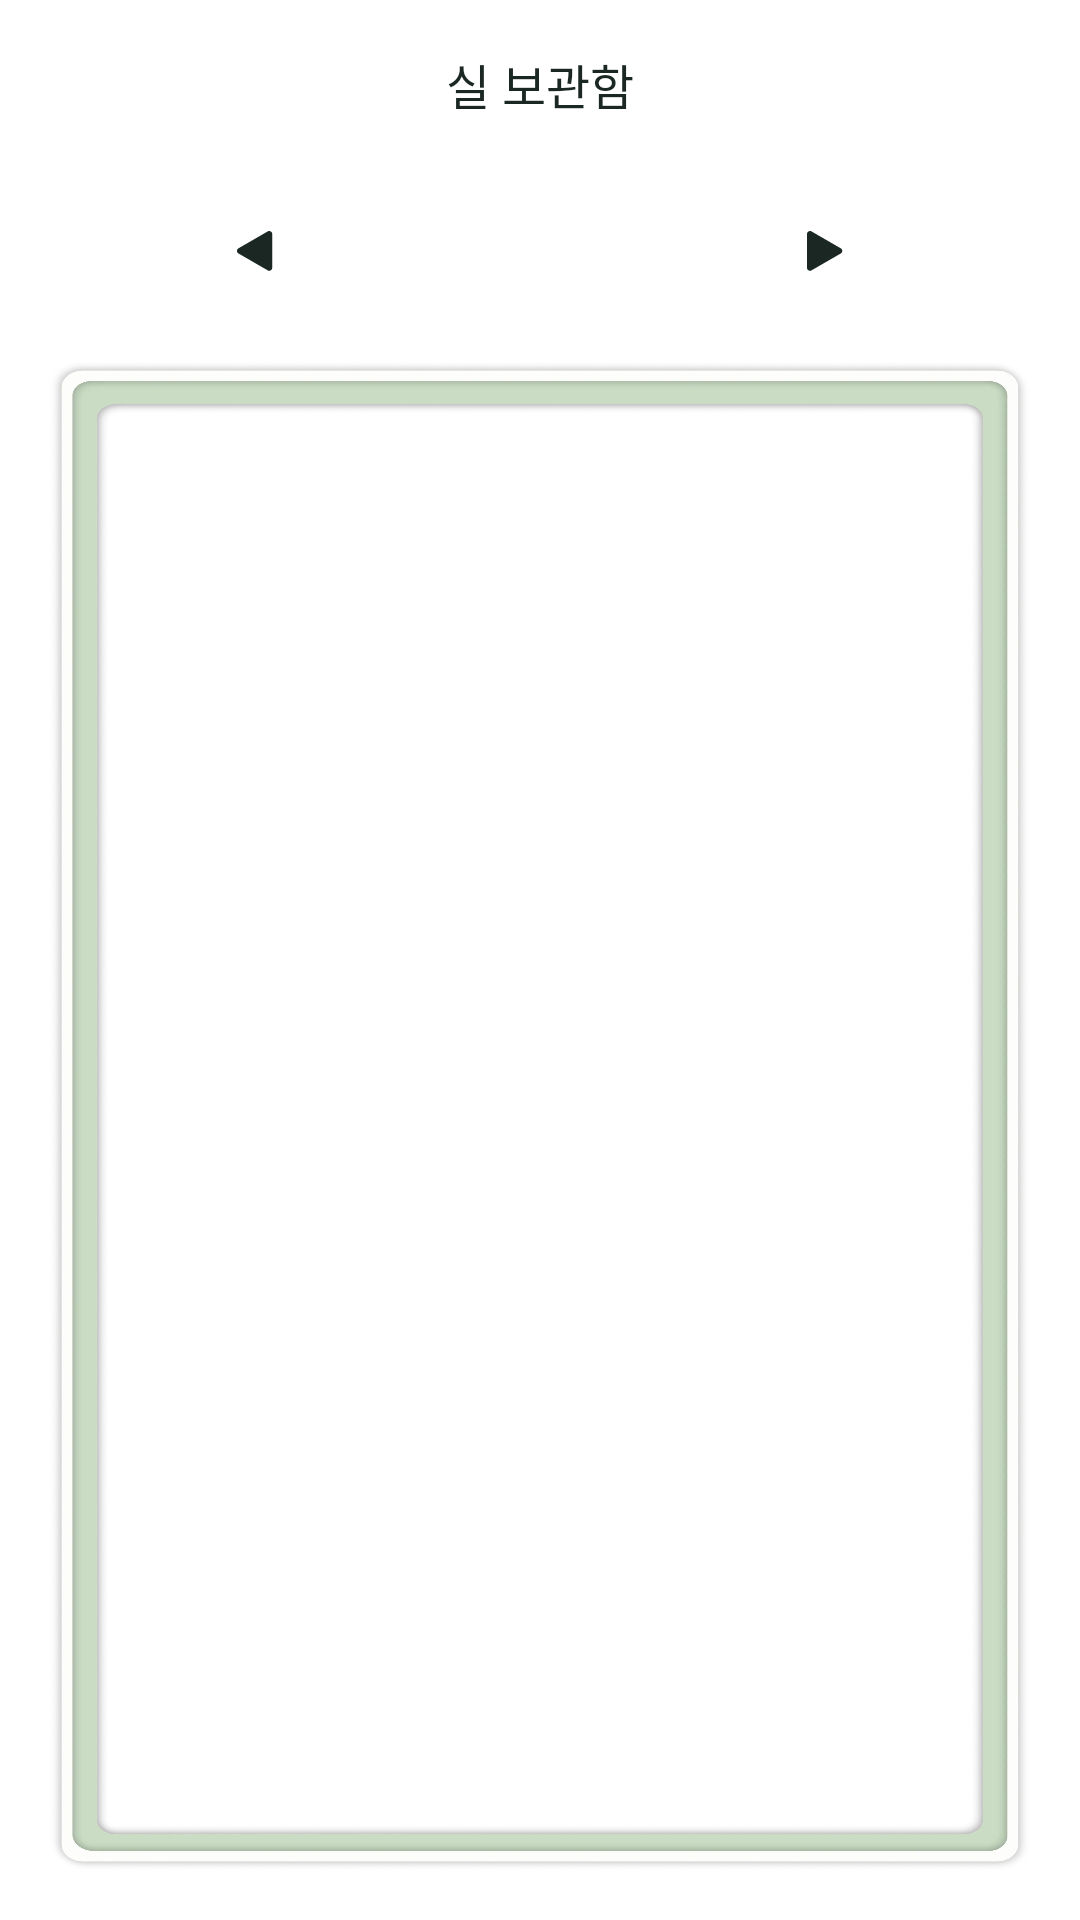

Named icons in this screenshot (1080px×1920px) and their bounding boxes, (x1, y1, x2, y2):
arrow left: (237, 231, 273, 271)
arrow right: (807, 231, 843, 271)
